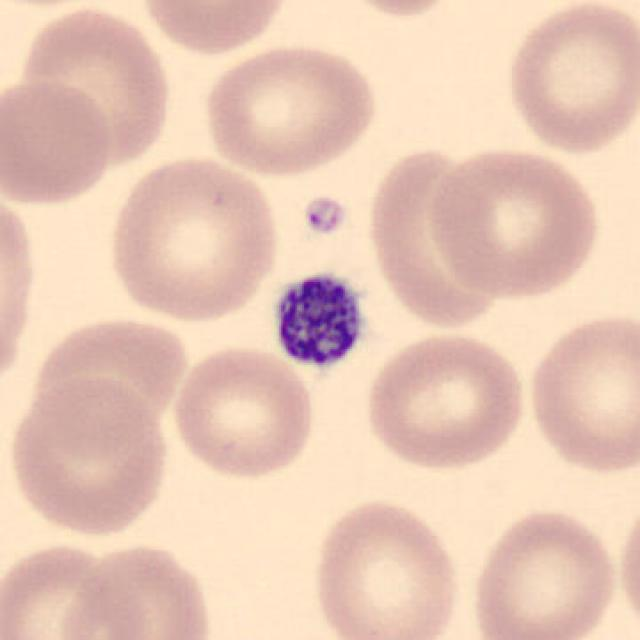Platelets: (266, 264, 370, 374), (298, 192, 348, 238)
RBC: (103, 152, 285, 326), (423, 141, 605, 303), (361, 139, 507, 337), (11, 2, 178, 173), (4, 374, 174, 541), (199, 39, 382, 180), (361, 328, 531, 474), (23, 308, 192, 448), (307, 493, 464, 640), (502, 0, 638, 159), (167, 342, 320, 483), (466, 504, 620, 640), (522, 306, 640, 479), (60, 539, 218, 640), (0, 74, 116, 210), (0, 537, 128, 640), (135, 0, 293, 58), (0, 185, 41, 404), (613, 492, 640, 638), (320, 0, 469, 21)
